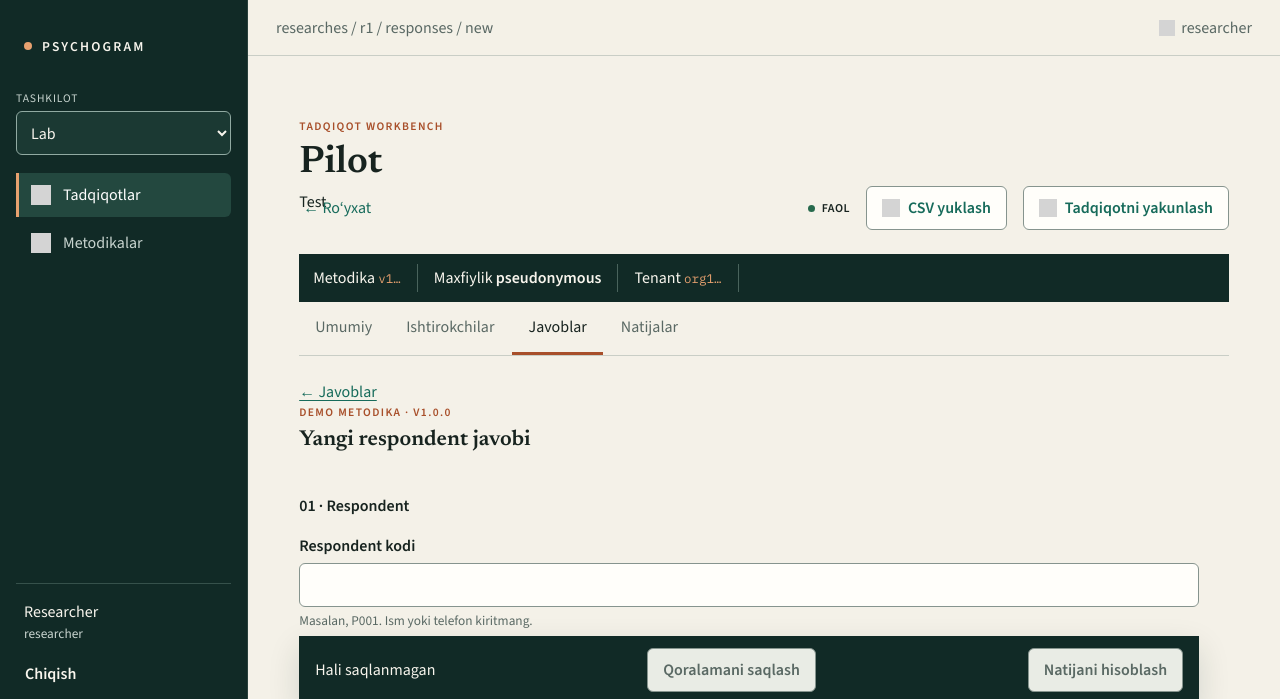
Test: response form › does not create anything until consent is confirmed
The width and height of the screenshot is (1280, 699).
Type "P001" into the field labelled "Respondent kodi".
click(749, 585); type("P001")  # box [299,563,1199,607]
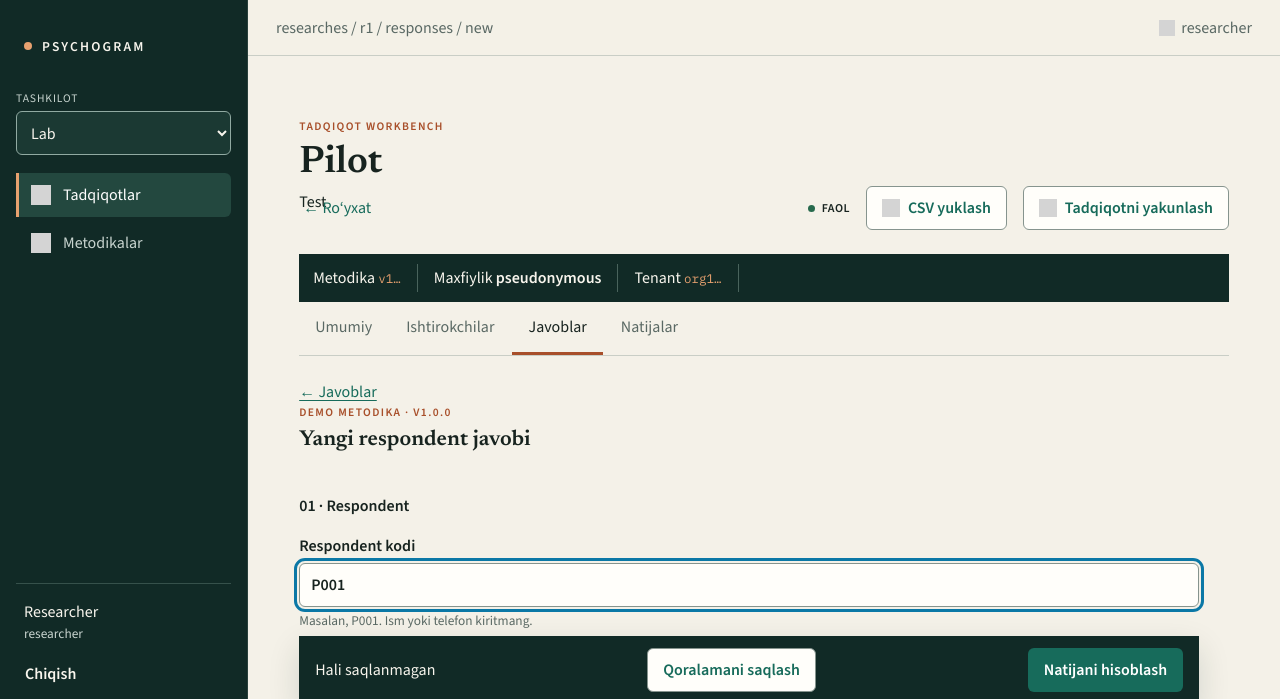
Click the button "Qoralamani saqlash".
click(732, 670)  # box [647,648,816,692]
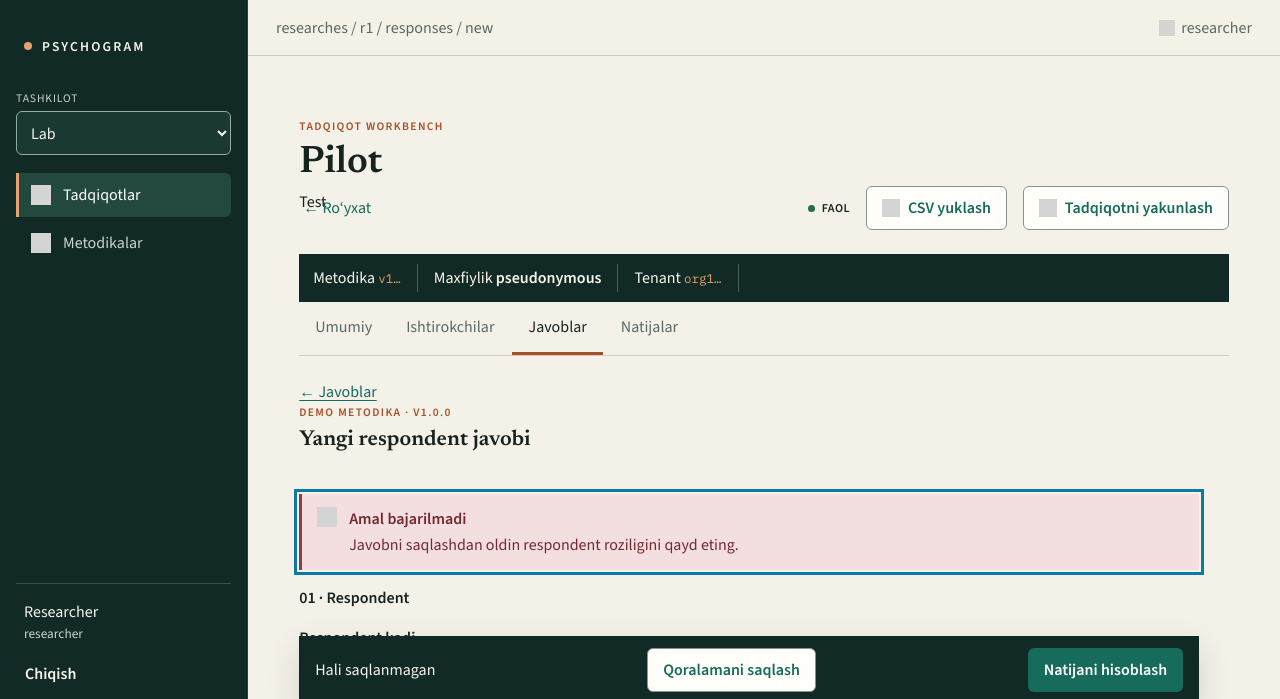
Now the text "Javobni saqlashdan oldin respondent roziligini qayd eting." is shown, box [349,533,739,557]
